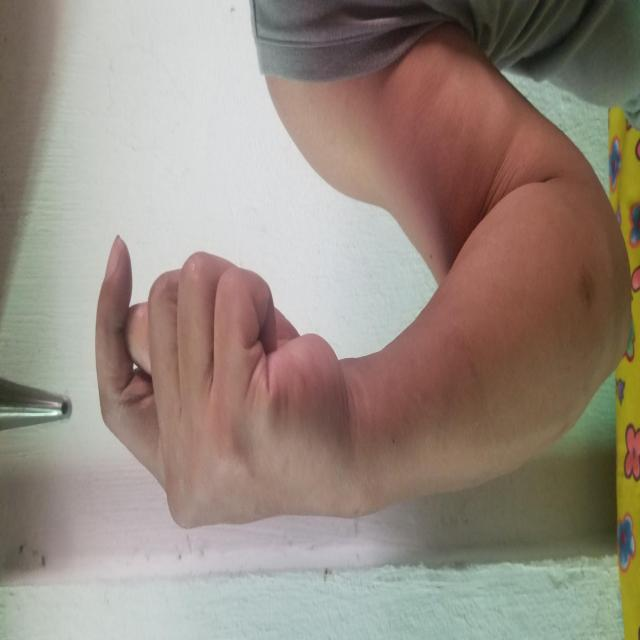T: (108, 94, 408, 345)
